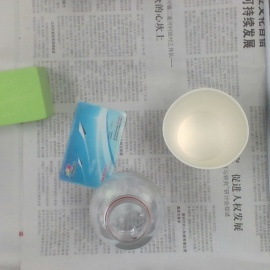bottle: (91, 171, 167, 251)
card: (62, 101, 128, 189)
cup: (161, 88, 250, 170)
